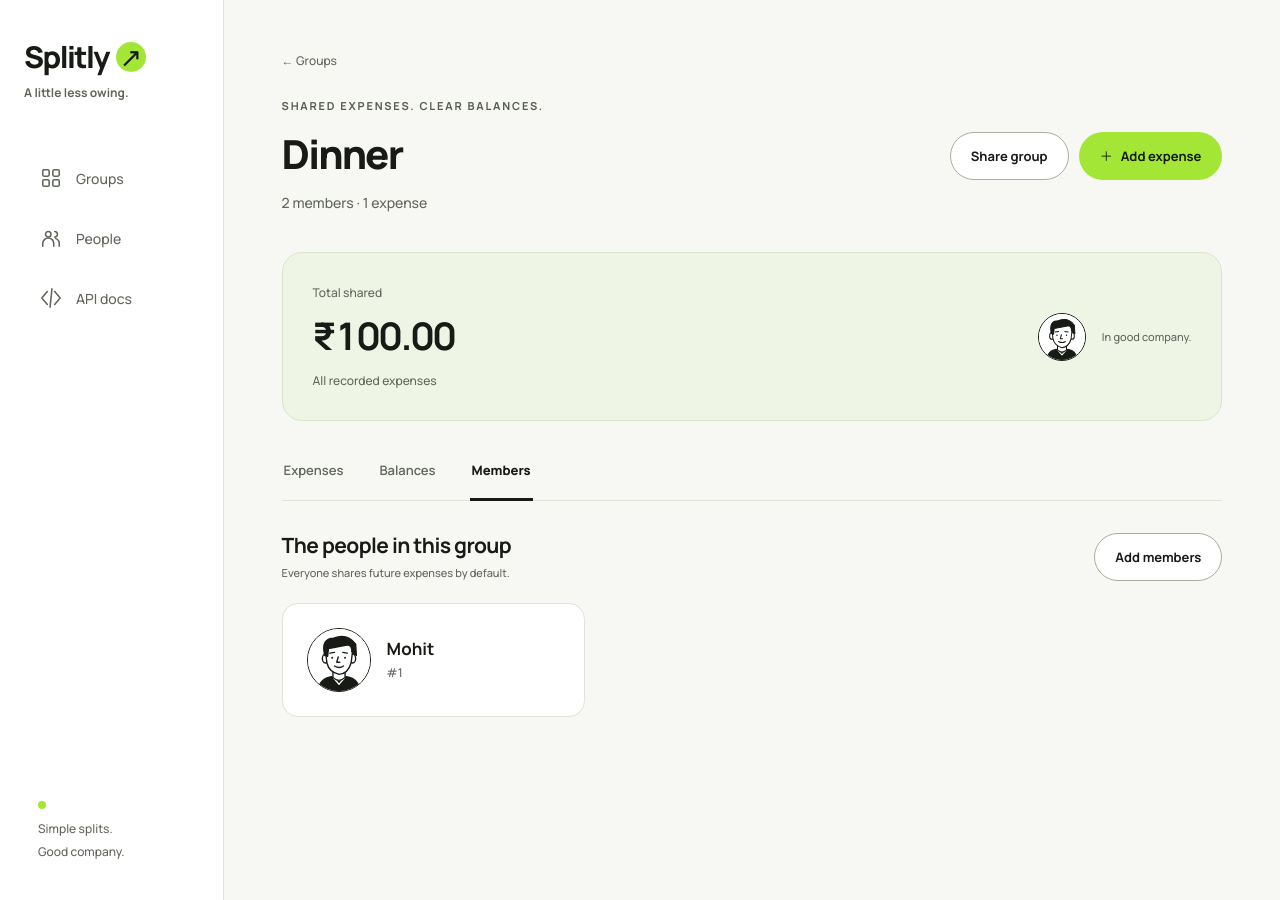
Test: retries the original existing member after an uncertain add and freezes other actions
The width and height of the screenshot is (1280, 900).
Step 1. Click the button "Add members" → (1158, 557), box [1094,533,1222,581]
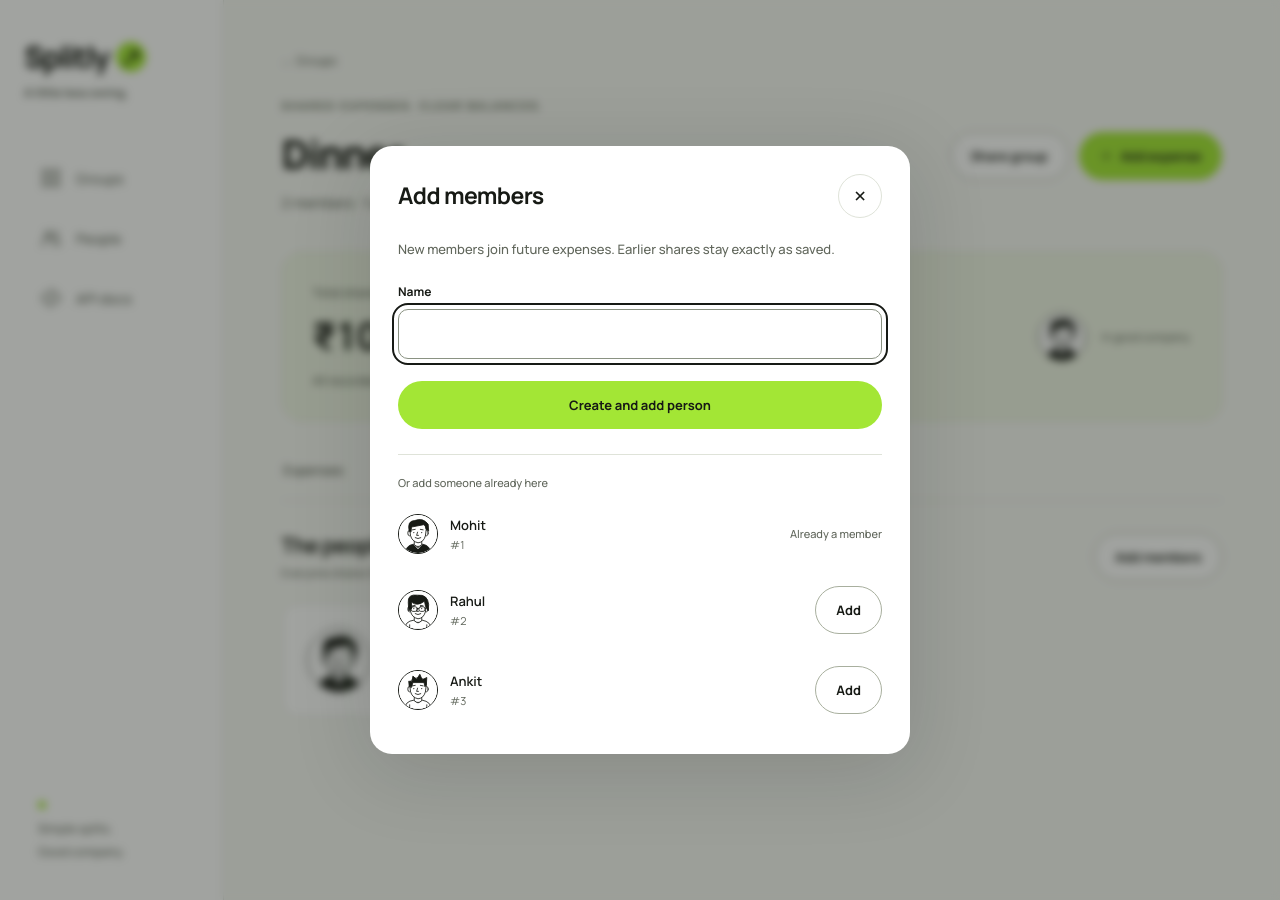
Step 2. Click the button with aria-label "Add Rahul" → (849, 610), box [815,586,882,634]
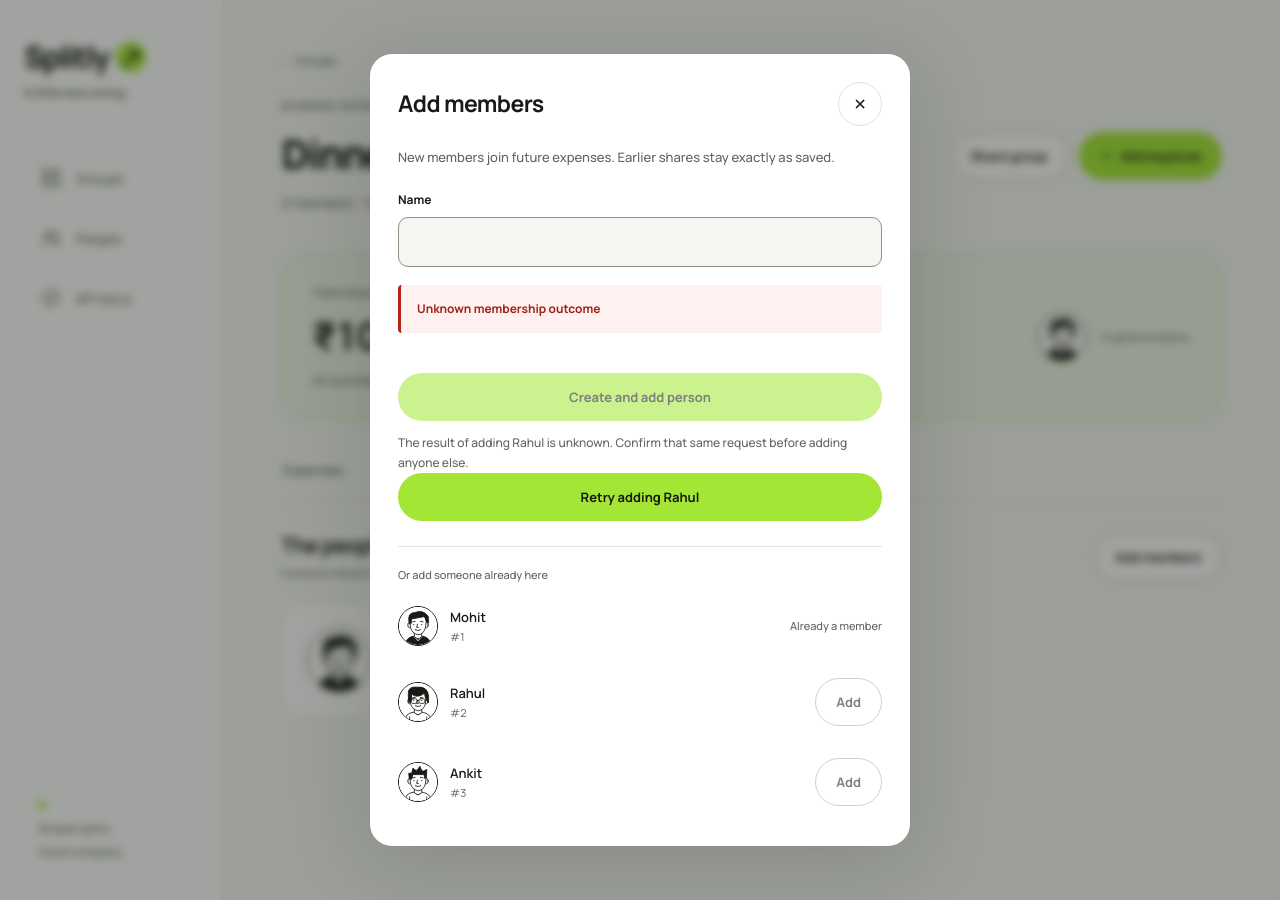
Result: the button "Retry adding Rahul" is shown
Result: the button with aria-label "Add Ankit" is disabled at [815,758,882,806]
Result: the button "Create and add person" is disabled at [398,372,882,420]
Step 3. Click the button "Retry adding Rahul" → (640, 497), box [398,473,882,521]
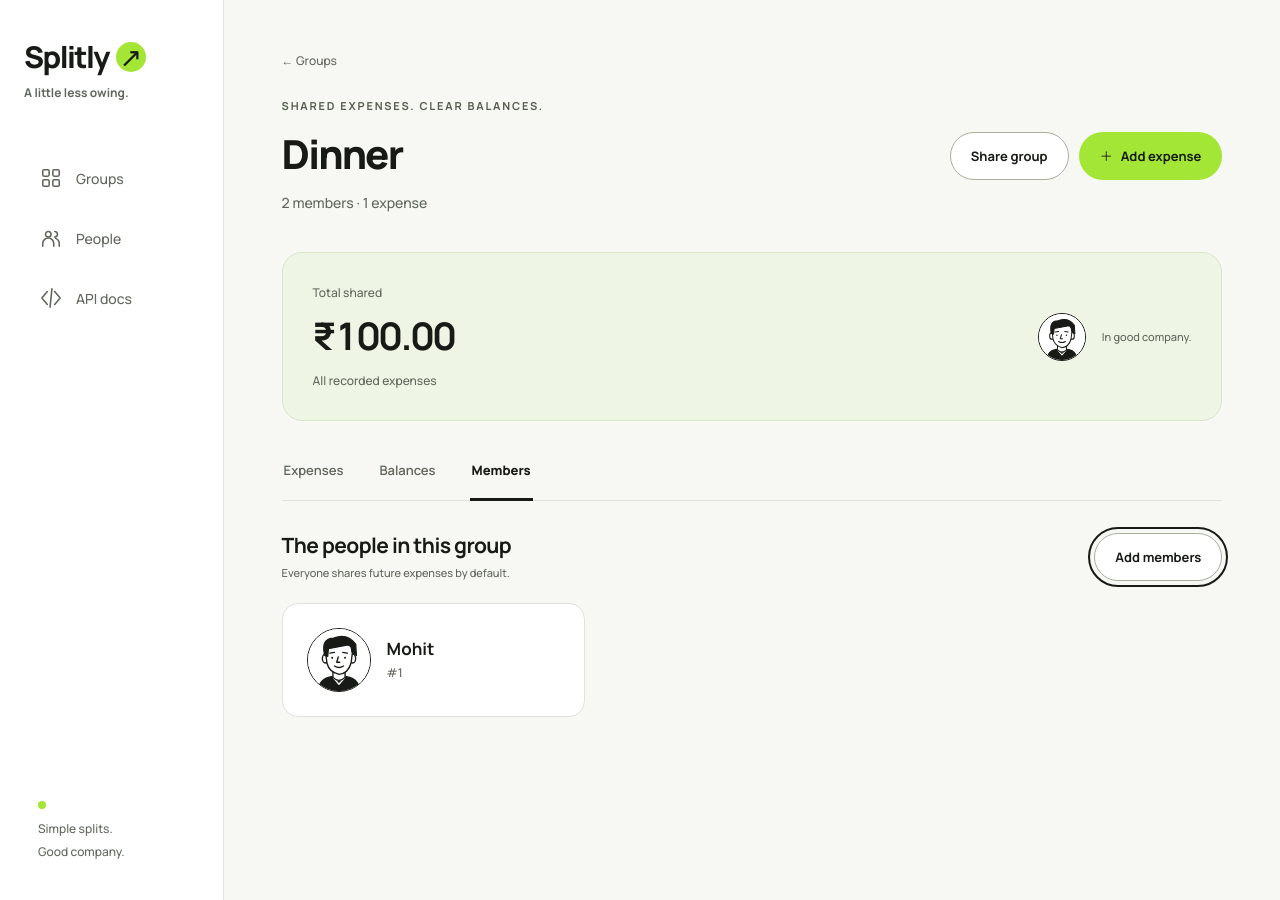
Result: the dialog is gone
